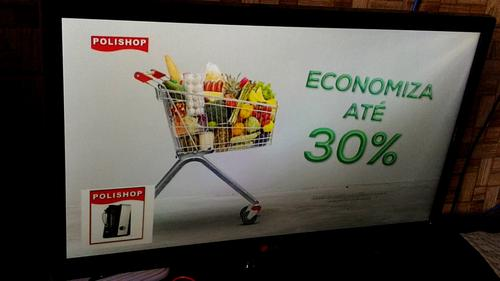Polishop #1: (80, 184, 155, 251)
